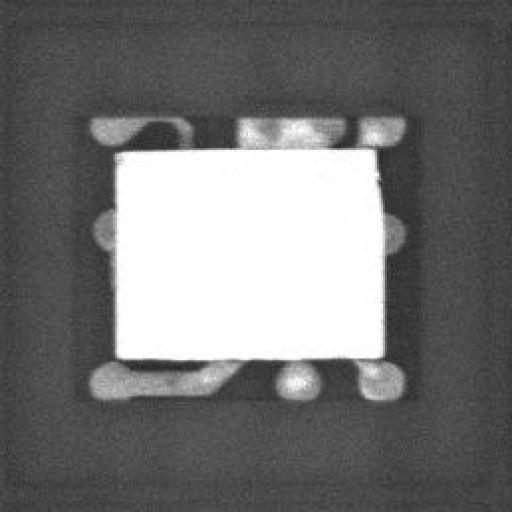DIE_BROKEN: (373, 146, 385, 184)
